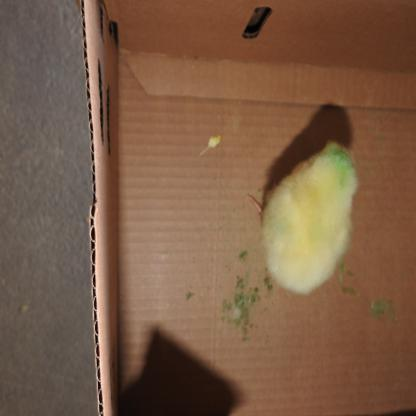Chicken: (317, 140, 354, 295)
box: (267, 143, 348, 309)
